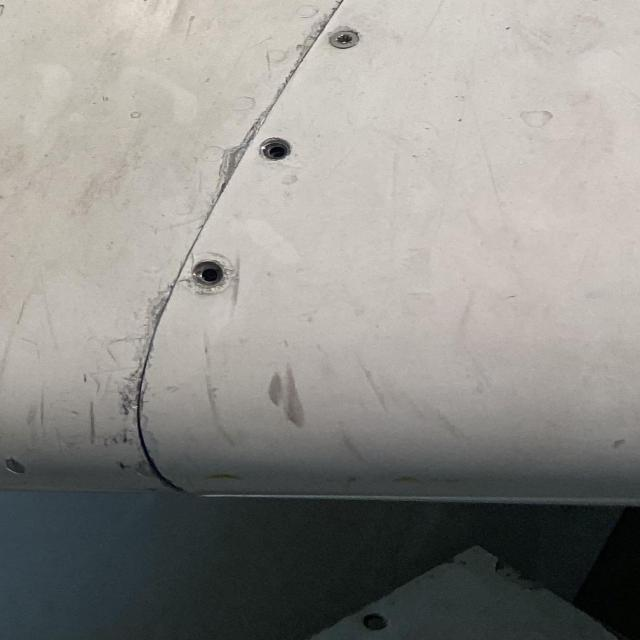Missing_Fastener: (188, 252, 232, 300), (253, 133, 297, 172)
